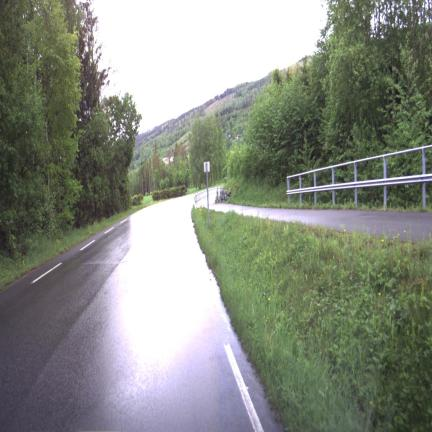Road: (0, 197, 281, 430)
